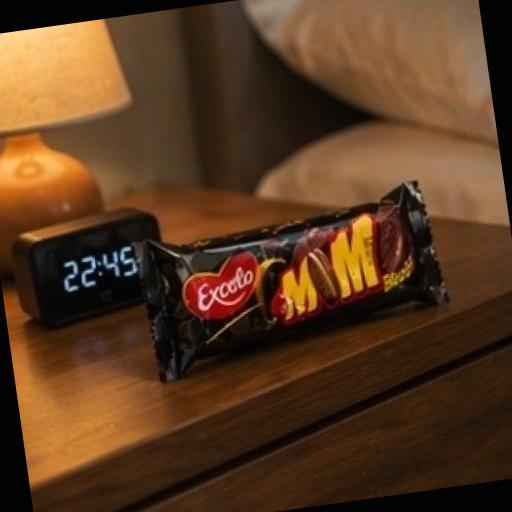MOMO: (95, 156, 485, 424)
